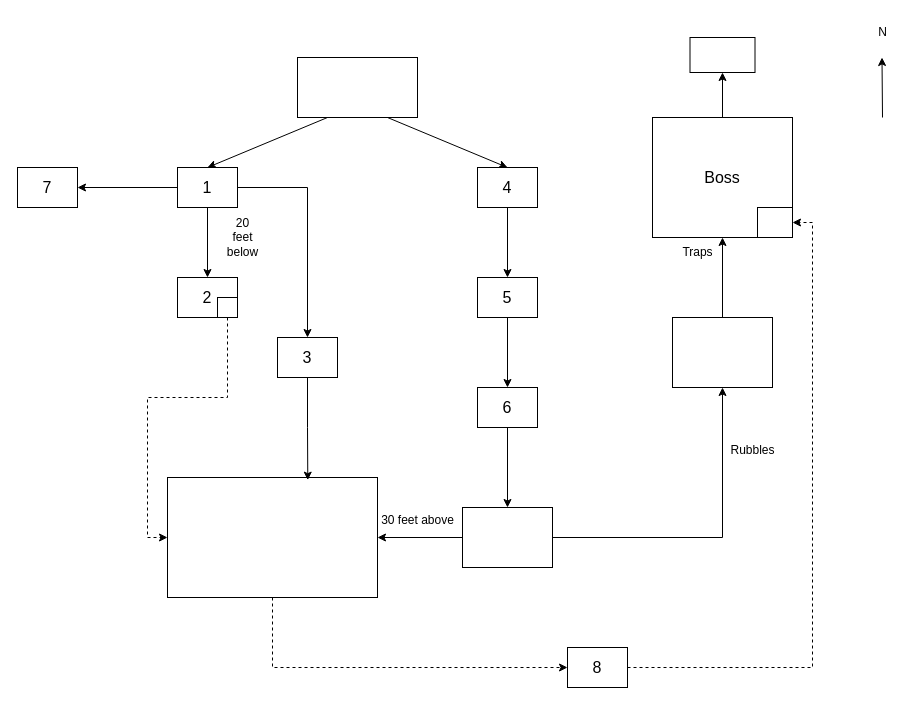
Some shapes in this 915 by 705 pixel diagram are drawn without their labels. Here are the shapes that lost their labels. From the top down, the centre of each, then its label:
(x=722, y=54): outside
(x=357, y=87): Entrance
(x=722, y=352): Shrine
(x=272, y=537): Lake
(x=507, y=537): Merchant
